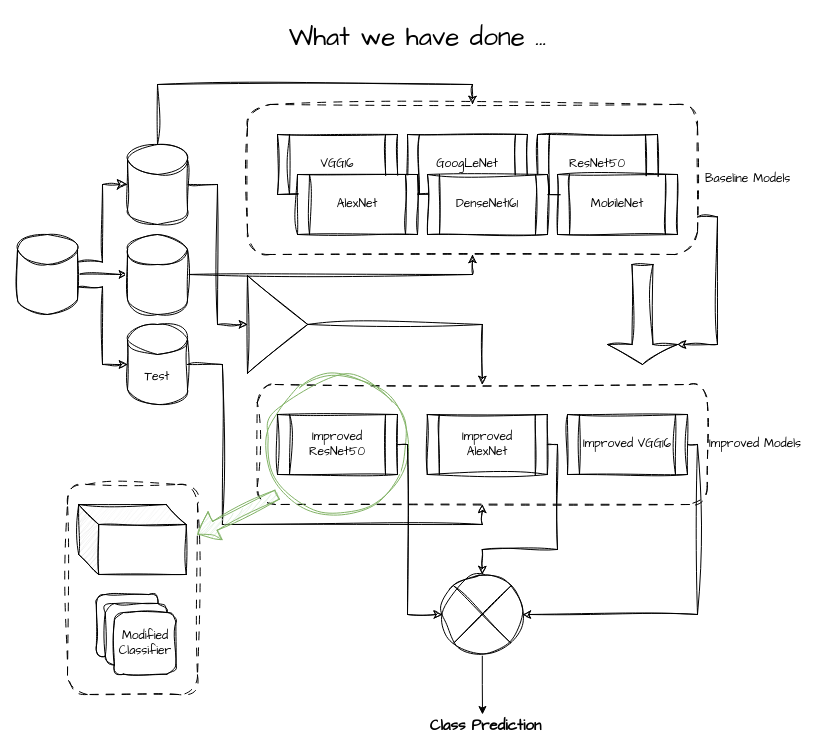
This 819x753 diagram has some shape labels left out. The centre of each missing label's shape, as x and y in pixels:
"argmax(sum(softmax(y)))" belongs at pixel 481 614.
"Data Augmentaion" belongs at pixel 277 324.
"Dataset" belongs at pixel 47 274.
"Pretrained Feature Extractor" belongs at pixel 132 539.
"Select Top 3" belongs at pixel 642 314.
"Train" belongs at pixel 157 184.
"Validation" belongs at pixel 157 274.
